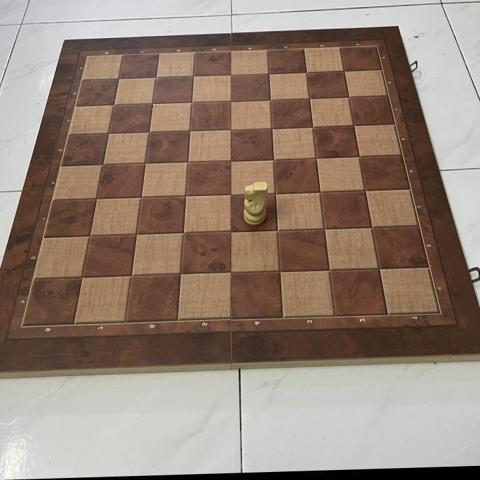xcorner: (140, 122, 158, 140), (262, 118, 280, 136), (94, 154, 112, 172), (136, 153, 154, 171), (132, 187, 150, 205), (110, 69, 128, 86), (147, 68, 165, 85), (185, 66, 202, 84), (222, 65, 239, 83), (259, 64, 277, 81), (334, 62, 352, 79), (105, 95, 123, 112), (183, 92, 200, 110), (222, 91, 239, 109), (100, 123, 117, 141), (303, 117, 320, 135), (221, 151, 239, 168), (264, 149, 281, 167), (307, 148, 324, 166), (349, 147, 367, 164), (221, 185, 239, 202), (266, 183, 283, 201), (310, 182, 328, 199), (355, 181, 373, 198), (127, 225, 145, 242), (174, 223, 191, 241), (221, 222, 238, 240), (315, 219, 332, 237), (362, 218, 379, 236), (122, 266, 139, 284), (171, 265, 189, 282), (270, 262, 287, 280), (319, 261, 337, 278), (297, 63, 314, 80), (144, 94, 161, 111), (261, 90, 278, 107), (300, 89, 317, 106), (339, 88, 356, 105), (181, 121, 198, 138), (222, 120, 239, 137), (344, 116, 361, 133), (179, 152, 196, 169), (88, 189, 105, 206), (177, 186, 194, 203), (81, 226, 98, 243), (268, 221, 285, 238), (73, 268, 90, 285), (221, 264, 238, 281), (369, 260, 386, 277)
